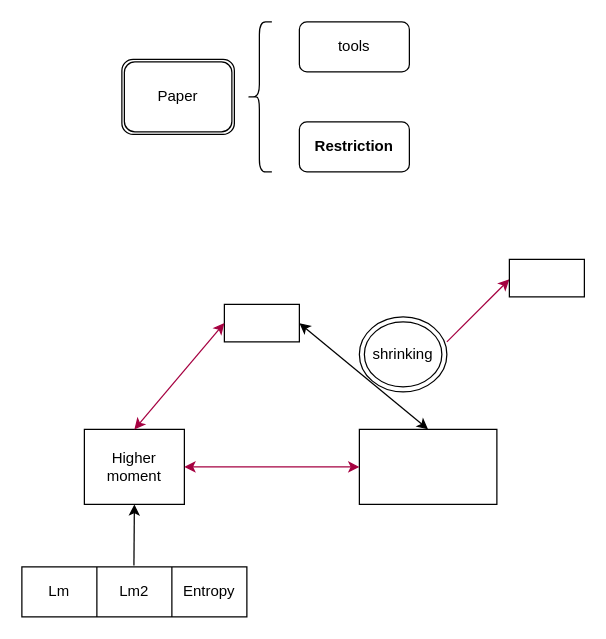
Image size: 606x639. Some labels were removed from this diagram. Here are the shapes that lost their labels. From the top down, the centre of each, then its label:
point (546, 277): Bayes
point (261, 322): SDF
point (427, 466): Characteristic returns / managed portfolio
